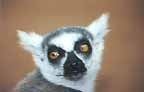cat: (8, 10, 111, 91)
